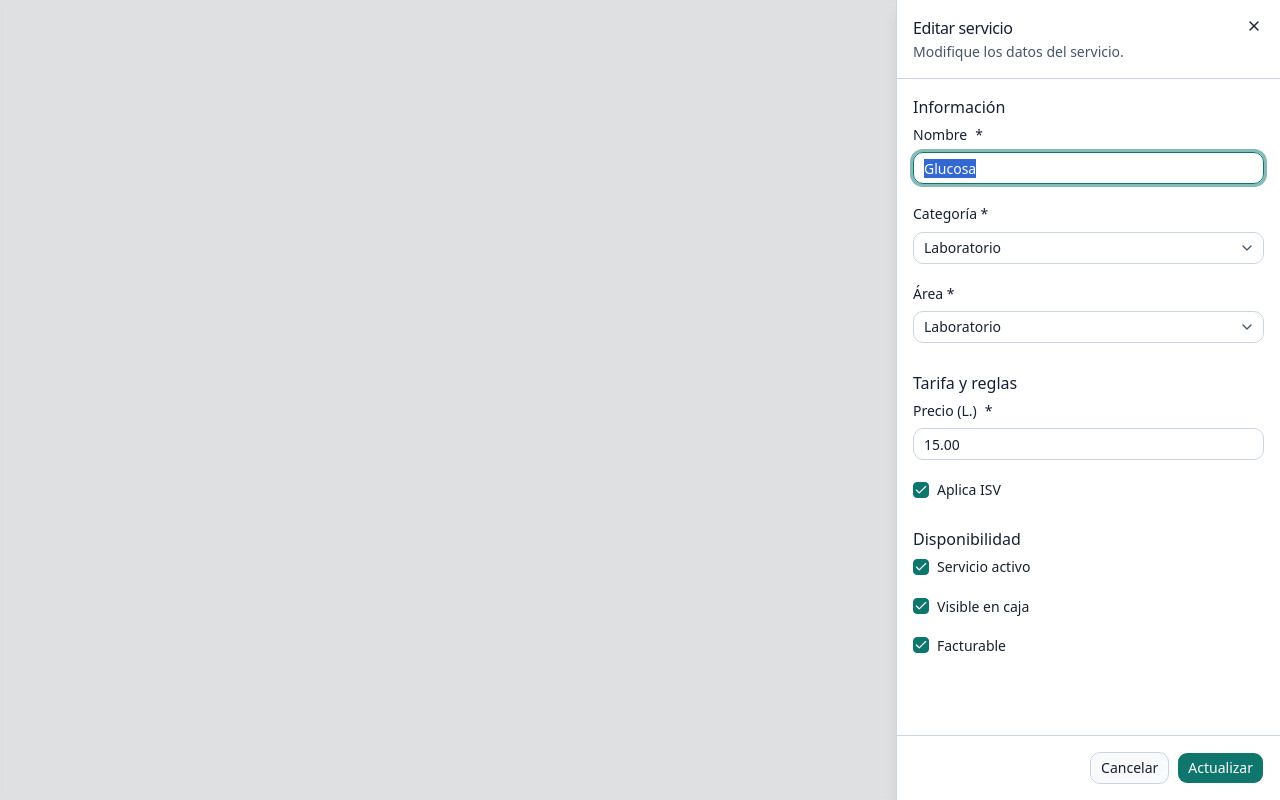
it: ServiceDrawer › blocks short tax change reasons before saving
Click the checkbox named "aplica isv" next to "Aplica ISV".
click(921, 490)  # box [913, 482, 929, 498]
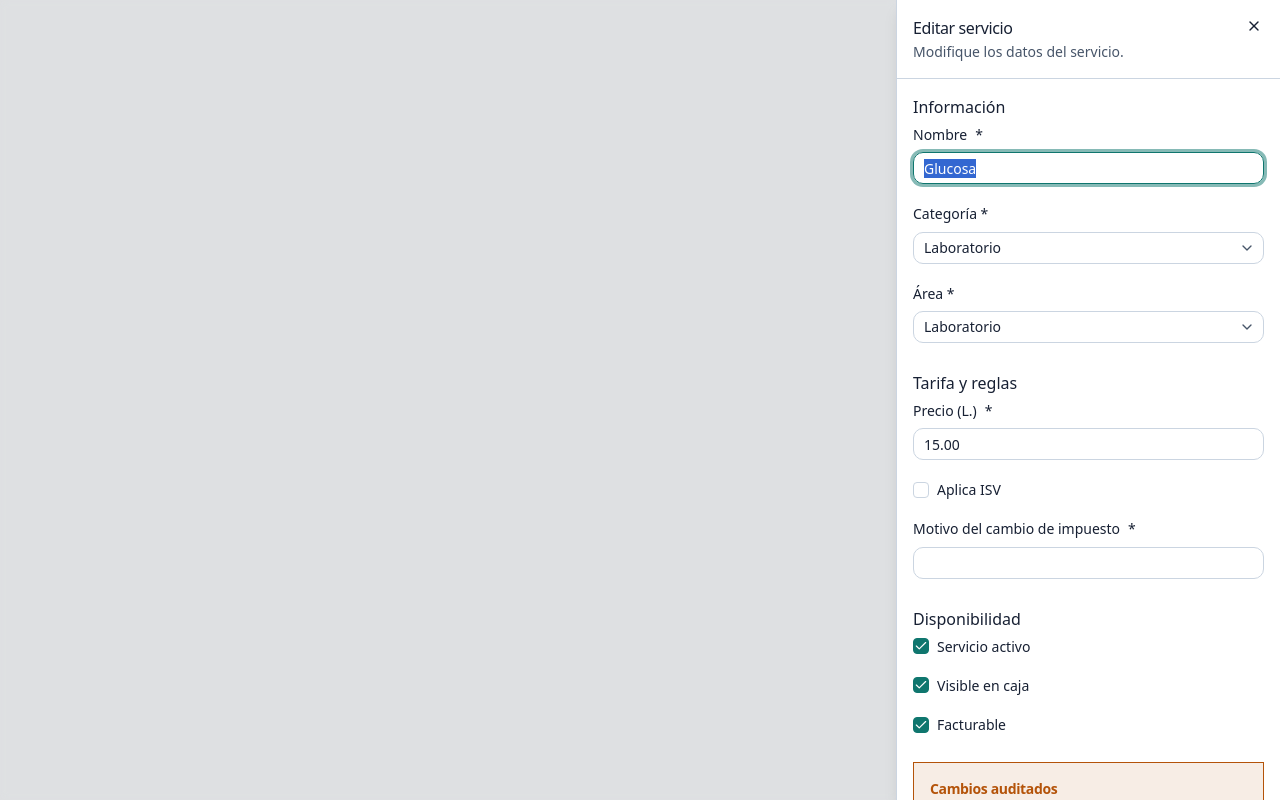
Type "x" into the field labelled "Motivo del cambio de impuesto *".
click(1088, 562); type("x")  # box [913, 546, 1264, 578]
(page scrolled)
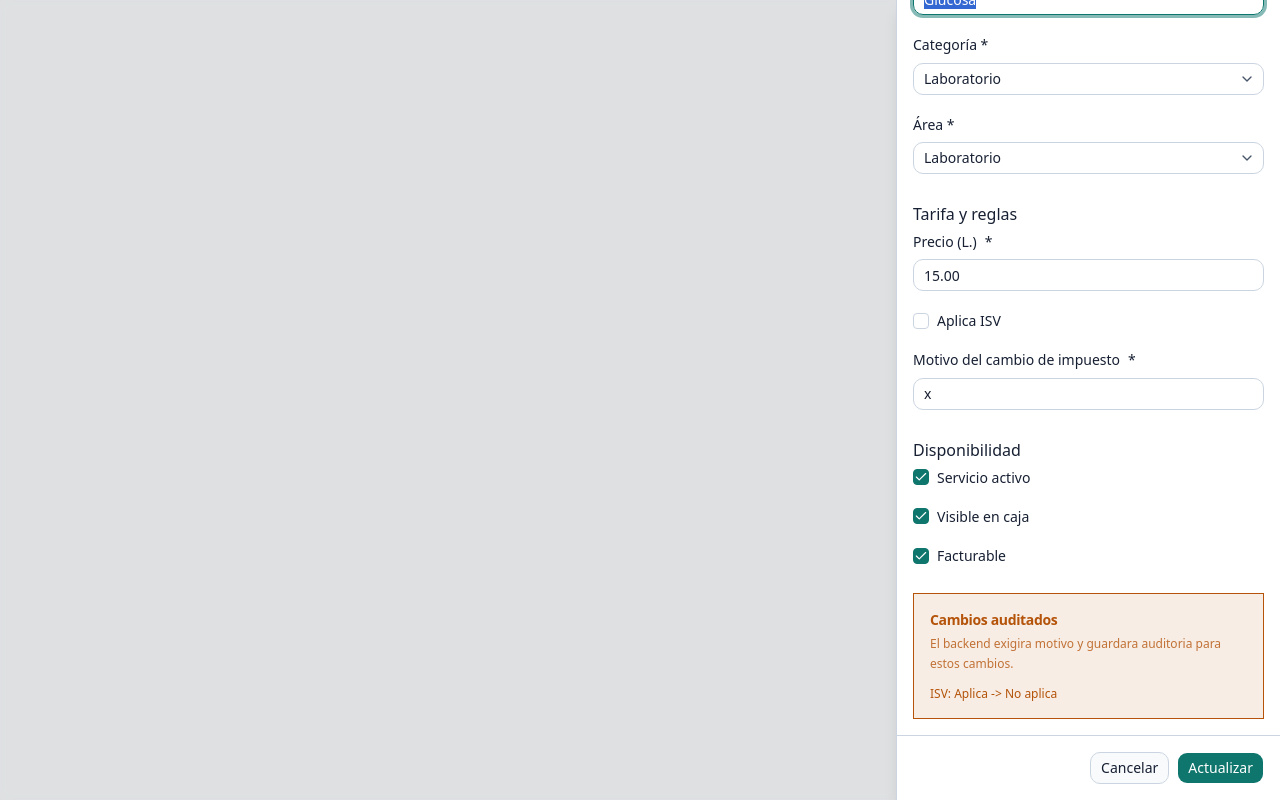
Click the button "Actualizar".
click(1221, 768)  # box [1177, 752, 1264, 784]
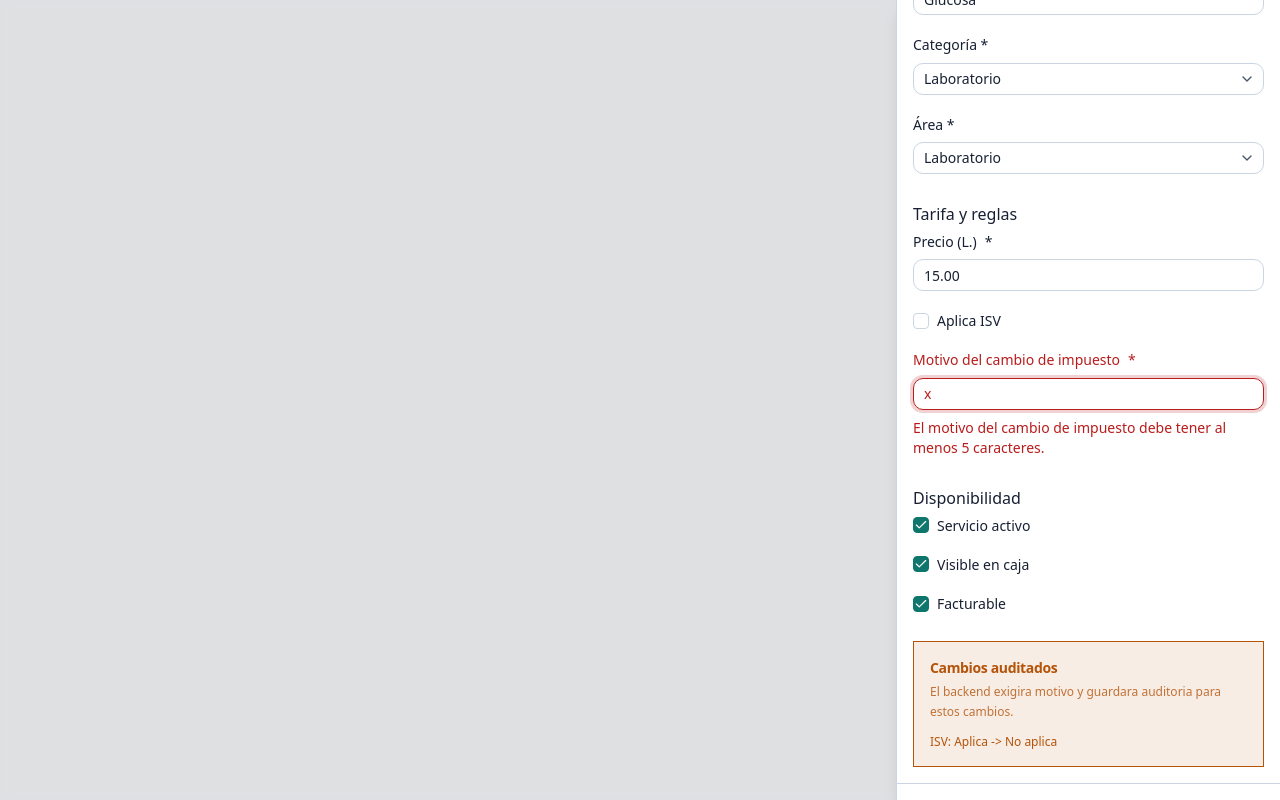
Check: the text "El motivo del cambio de impuesto debe tener al menos 5 caracteres." is shown, box [913, 418, 1264, 458]
